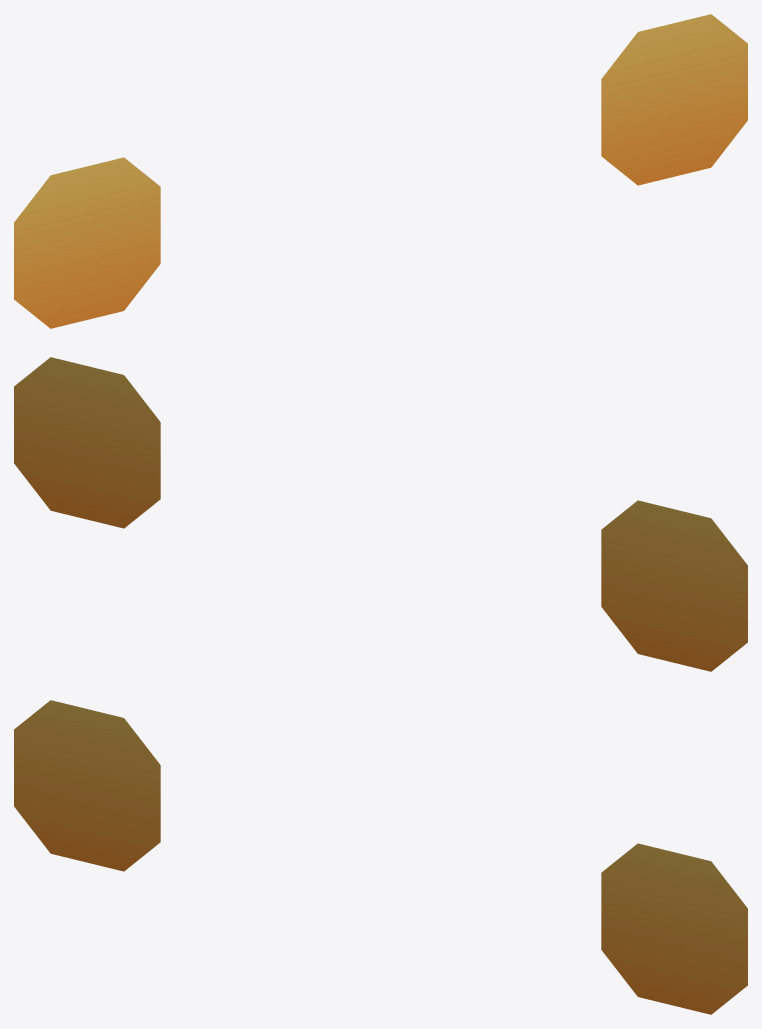
The model's file is coaster-kit--coaster-mouse-cap-back.glb.
The picture shows the model from 3 angles, top to bottom: view 1: azimuth 30°, elevation 25°; view 2: azimuth 150°, elevation 25°; view 3: azimuth 330°, elevation 25°; orthographic projection.
Parts seen in each view (by area): view 1: coaster-mouse-cap-back; view 2: coaster-mouse-cap-back; view 3: coaster-mouse-cap-back.
Part boxes in pixels (bbox=[...]): coaster-mouse-cap-back: bbox=[14, 14, 747, 328]; coaster-mouse-cap-back: bbox=[14, 357, 747, 671]; coaster-mouse-cap-back: bbox=[14, 700, 747, 1014].
Size of the model in its own units: 0.5 by 0.1 by 1.44e-15.
1 material, 1 textured.
